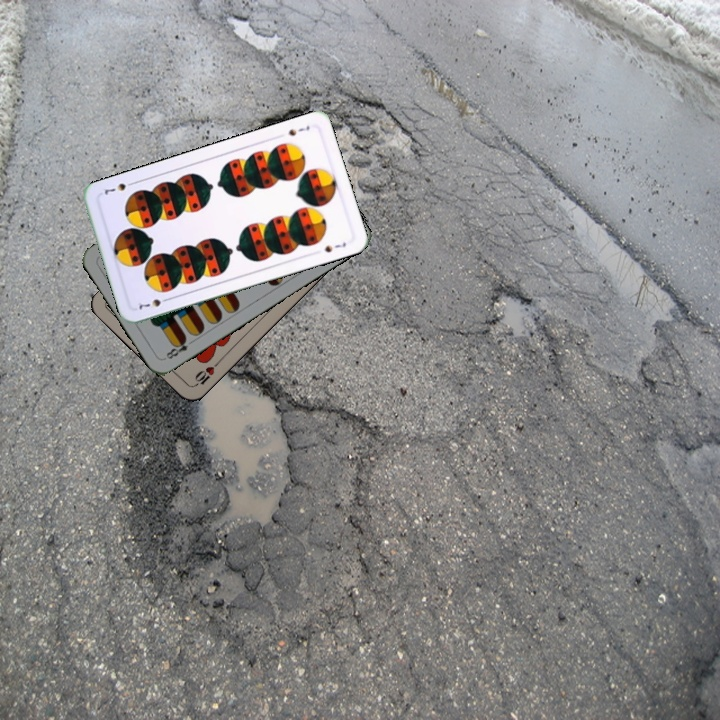E8: (162, 333, 197, 362)
H10: (189, 358, 221, 390)
S7: (134, 294, 173, 312), (284, 121, 312, 138)
